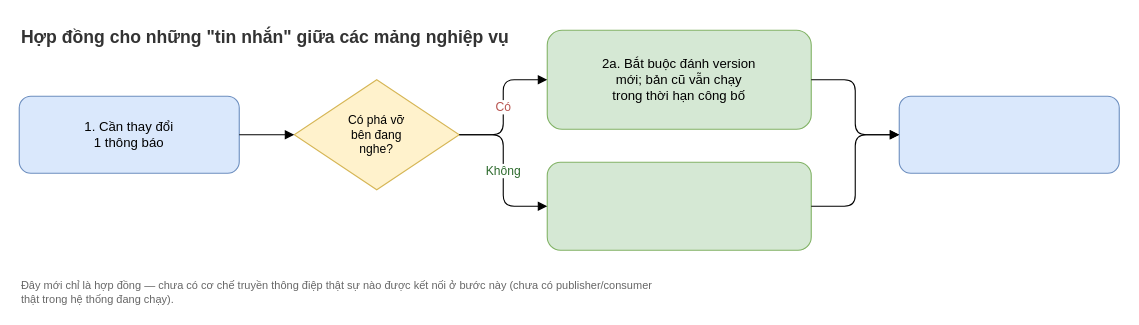
The diagram is 1139 pixels wide and 325 high, and some of its shapes have lost their labels. The shapes that lost their labels are listed below. From the top down, each one's centre as x and y in pixels, then its label:
(x=1008, y=134): 3. Không ai bị gián đoạn
(x=678, y=205): 2b. Cứ thêm — bên nghe tự bỏ qua phần lạ
